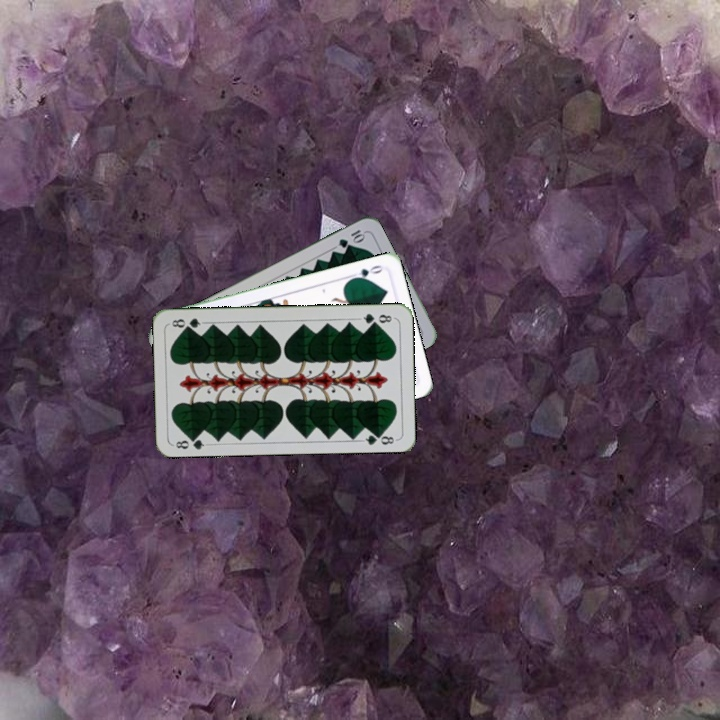G10: (334, 225, 368, 250)
G8: (171, 432, 211, 452), (356, 309, 396, 327)
GO: (346, 261, 386, 283)
